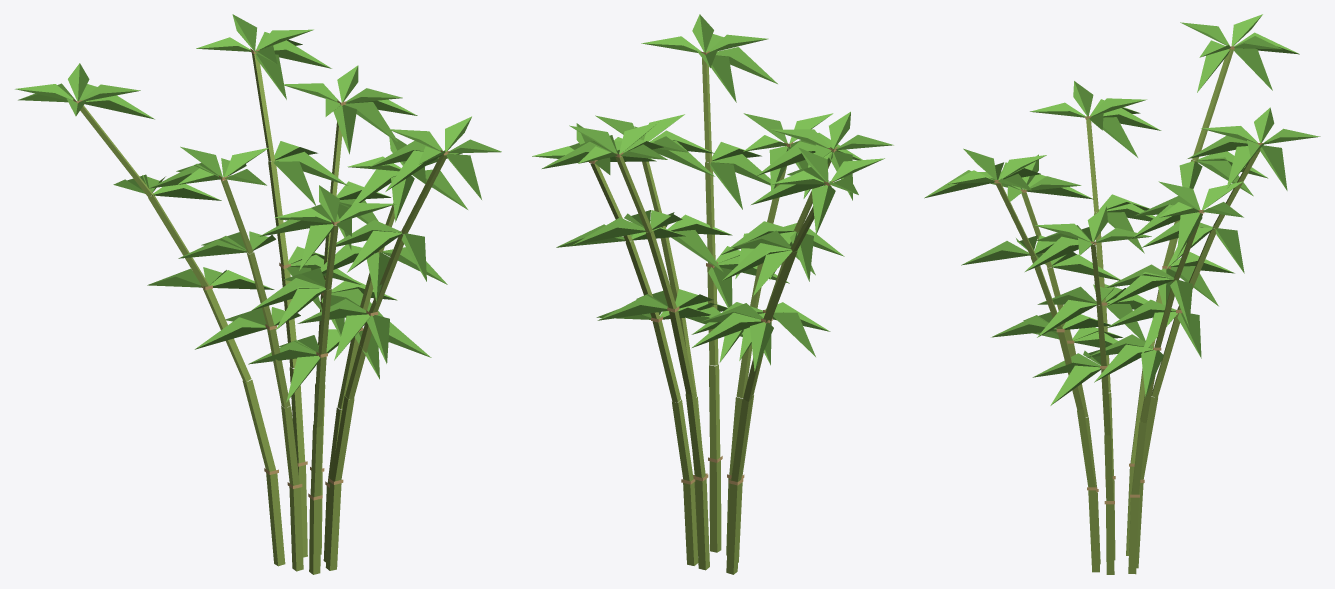
File: viet_bamboo_clump.glb
3 renders of one model, left to right at view 1: azimuth 30°, elevation 25°; view 2: azimuth 150°, elevation 25°; view 3: azimuth 270°, elevation 25°, orthographic. The views are drawn at different scales.
Visible parts, largest first — view 1: viet_bamboo_clump; view 2: viet_bamboo_clump; view 3: viet_bamboo_clump.
Boxes of the visible parts, left/top/right/bottom form: viet_bamboo_clump: left=15, top=14, right=501, bottom=574; viet_bamboo_clump: left=532, top=14, right=893, bottom=574; viet_bamboo_clump: left=924, top=14, right=1320, bottom=574.
Bounding box in the file's own units: 0.7943 × 1 × 0.7982.
